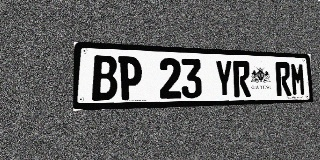2: (159, 58, 181, 99)
3: (181, 58, 202, 98)
B: (92, 55, 117, 101)
M: (290, 62, 306, 96)
P: (118, 56, 142, 100)
R: (233, 60, 251, 97), (275, 62, 291, 96)
Y: (214, 60, 233, 98)
